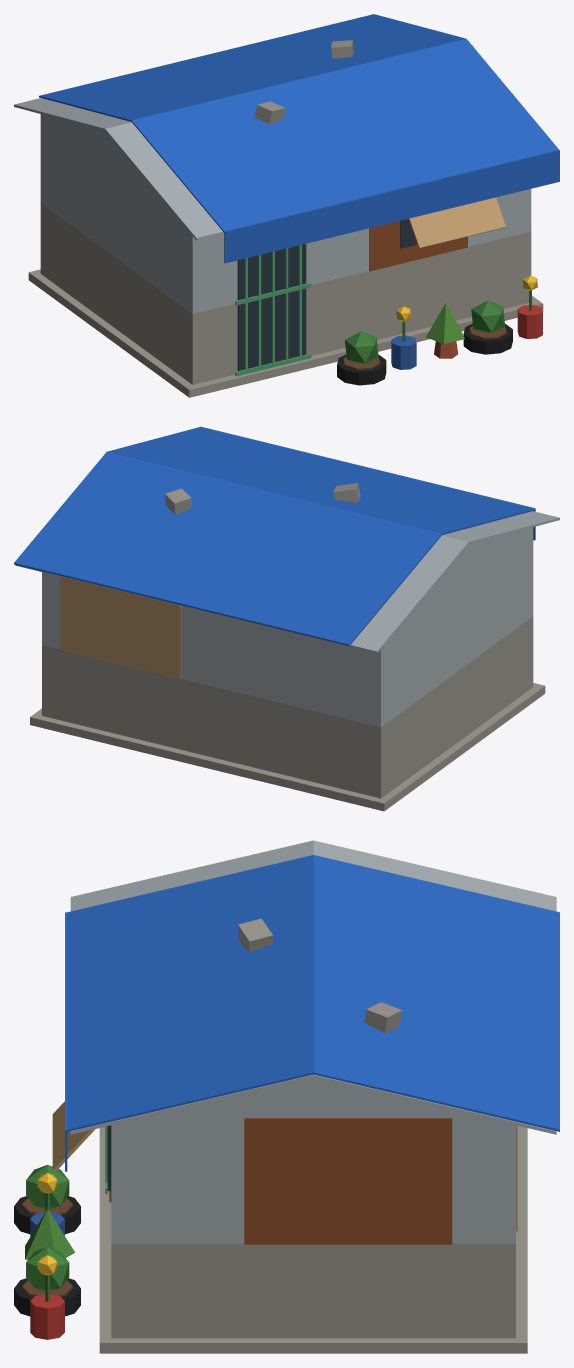
File: BAY_I_TarpShack_M.glb
The picture shows the model from 3 angles, top to bottom: view 1: azimuth 30°, elevation 25°; view 2: azimuth 150°, elevation 25°; view 3: azimuth 270°, elevation 25°; orthographic projection. The views are drawn at different scales.
Visible parts, largest first — view 1: BAY_I_TarpShack_M; view 2: BAY_I_TarpShack_M; view 3: BAY_I_TarpShack_M.
Boxes of the visible parts, bbox=[...] form: BAY_I_TarpShack_M: bbox=[14, 14, 559, 397]; BAY_I_TarpShack_M: bbox=[14, 426, 559, 811]; BAY_I_TarpShack_M: bbox=[14, 840, 559, 1353].
Bounding box in the file's own units: 4.8 × 2.76 × 4.72.
1 material, 1 textured.
